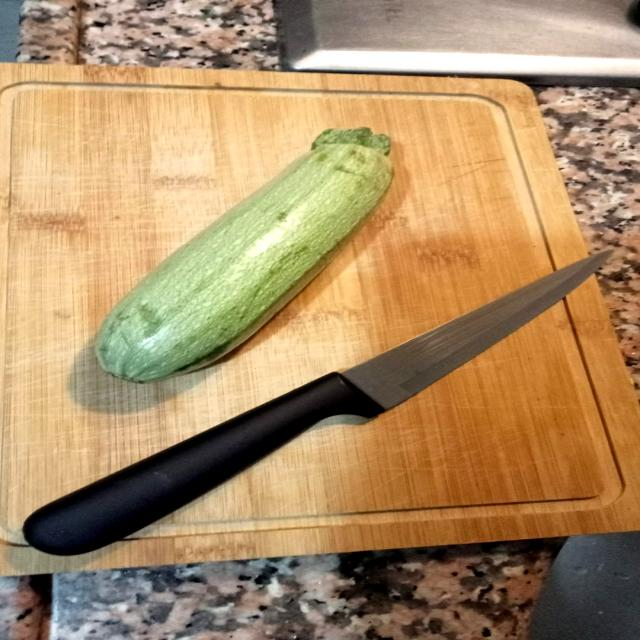zucchini: (75, 115, 425, 389)
